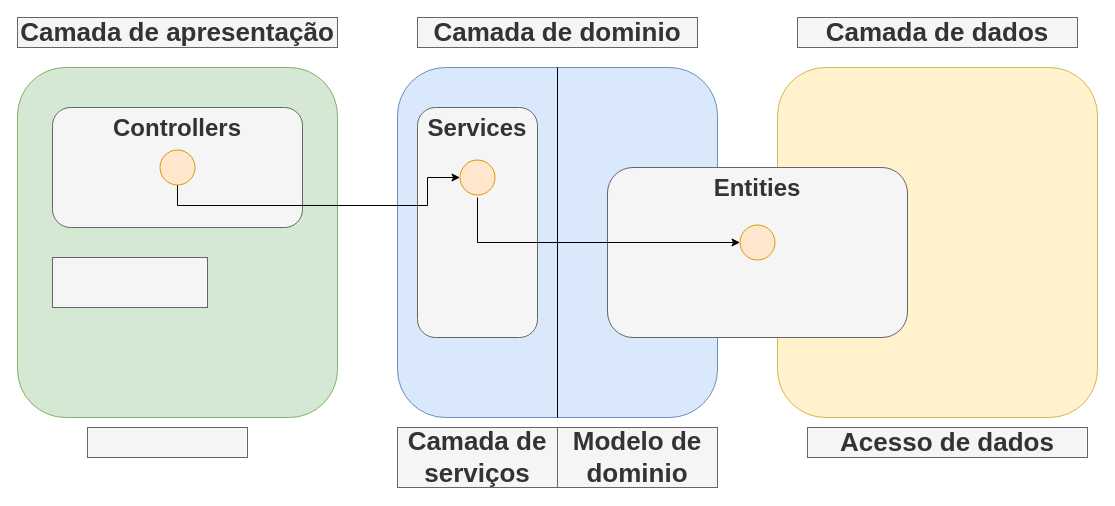
This 1115x506 diagram has some shape labels left out. Each missing label, with the centre of its shape:
"MVC Pattern" goes at (167,442).
"Visualização" goes at (130,282).
